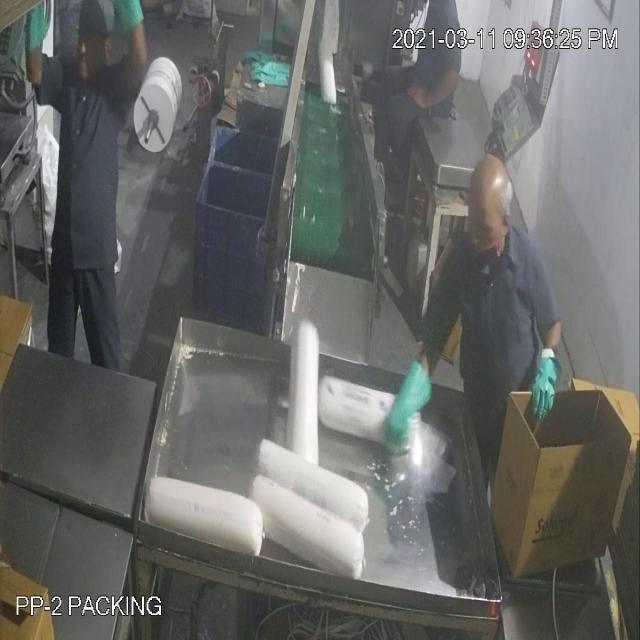No_Gloves: (46, 54, 544, 402)
